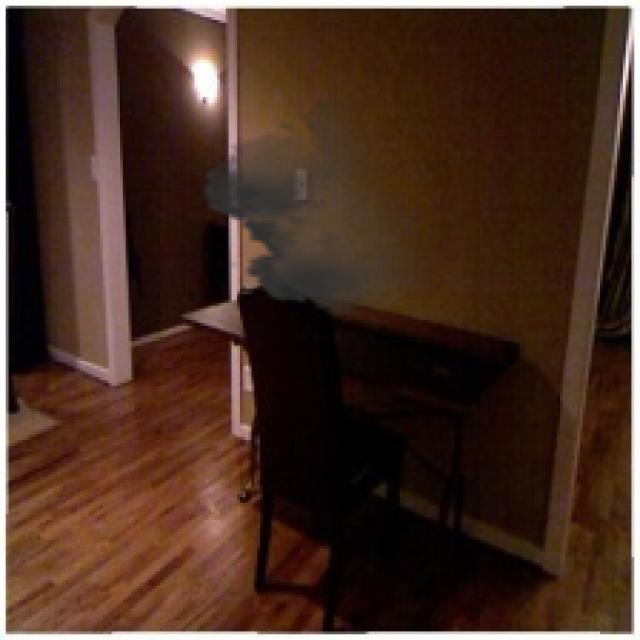smoke: (191, 88, 463, 323)
